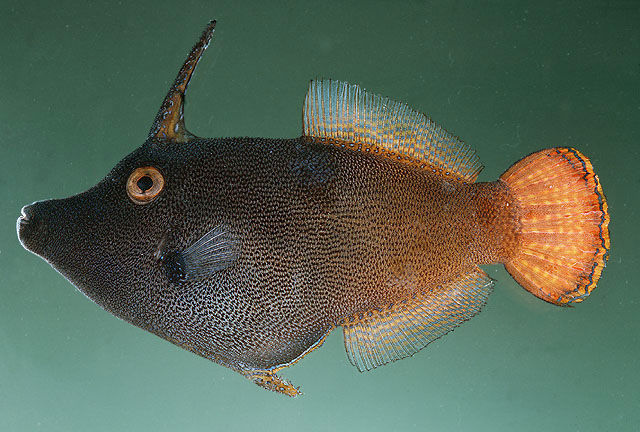fish: (16, 18, 611, 398)
